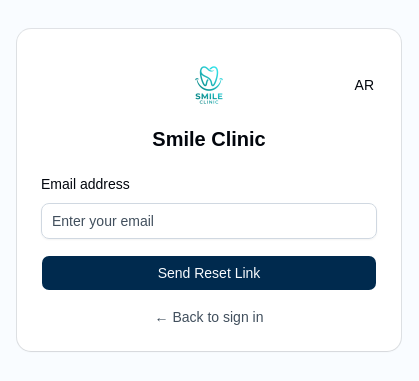
Test case: ForgotPasswordPage › shows validation error when submitting empty email
Click the button "Send Reset Link": (209, 273) [41,255,377,291]
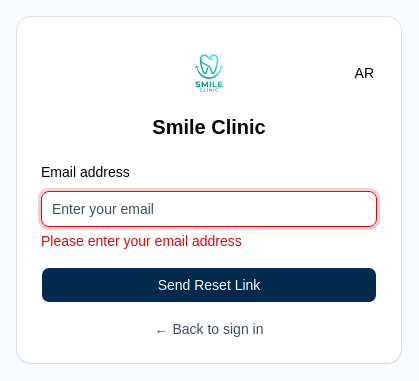
Now the text "Please enter your email address" is shown, box [41,233,242,249]
